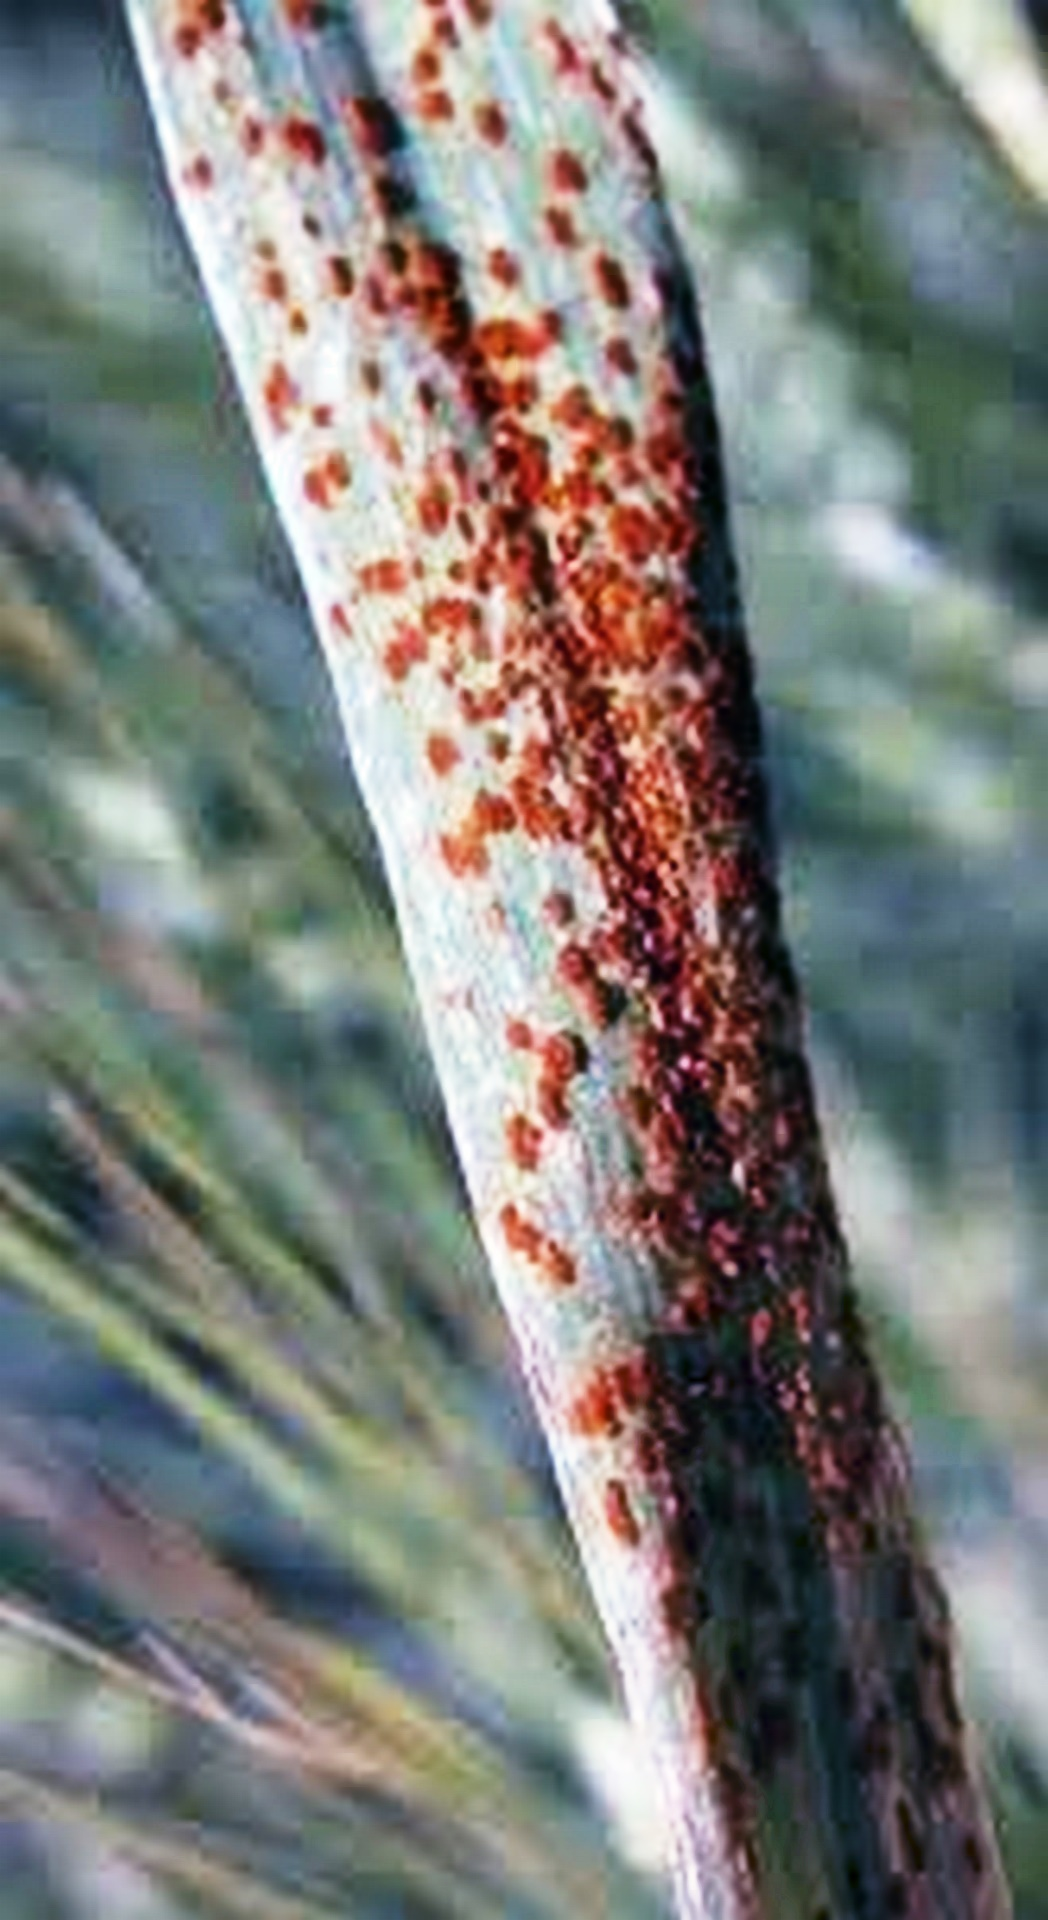Leaf Rust: (197, 166, 977, 1601)
